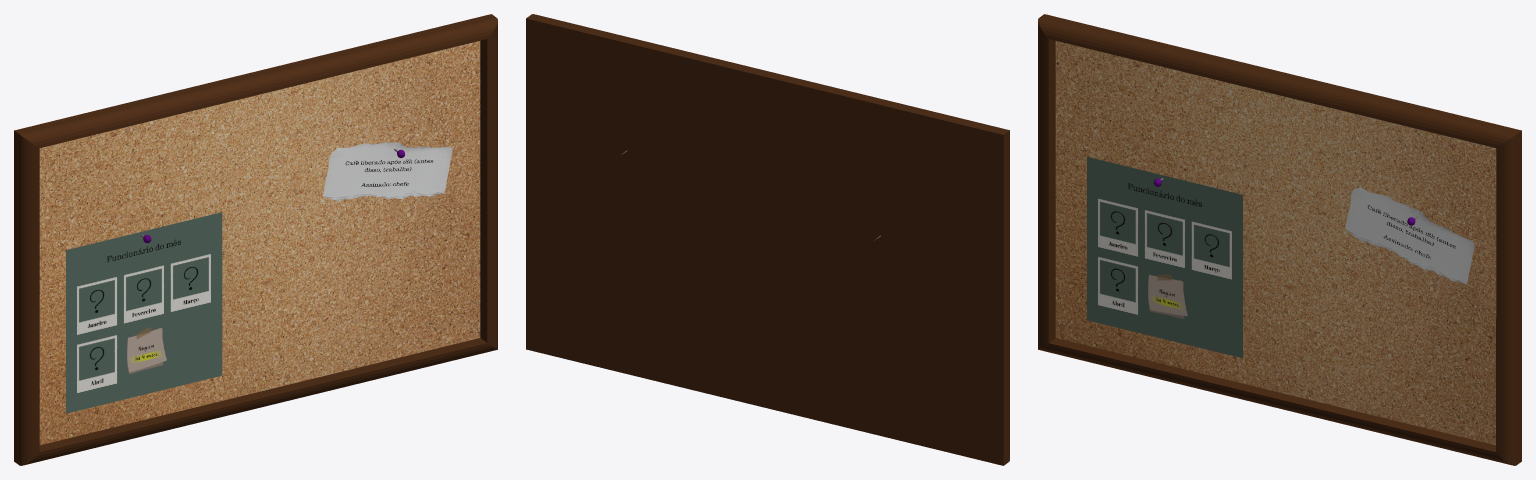
Rendered from SM_Prop_NoticeBoard.fbx.
The picture shows the model from 3 angles, left to right: view 1: azimuth 30°, elevation 25°; view 2: azimuth 150°, elevation 25°; view 3: azimuth 330°, elevation 25°; orthographic projection.
Parts seen in each view (by area): view 1: QuadroAvisos; view 2: QuadroAvisos; view 3: QuadroAvisos.
Boxes of the visible parts, x1,y1,x2,y2 form: QuadroAvisos: (14, 14, 497, 465); QuadroAvisos: (526, 14, 1009, 465); QuadroAvisos: (1038, 14, 1521, 465).
Bounding box in the file's own units: 36.9 × 24.44 × 2.5.
